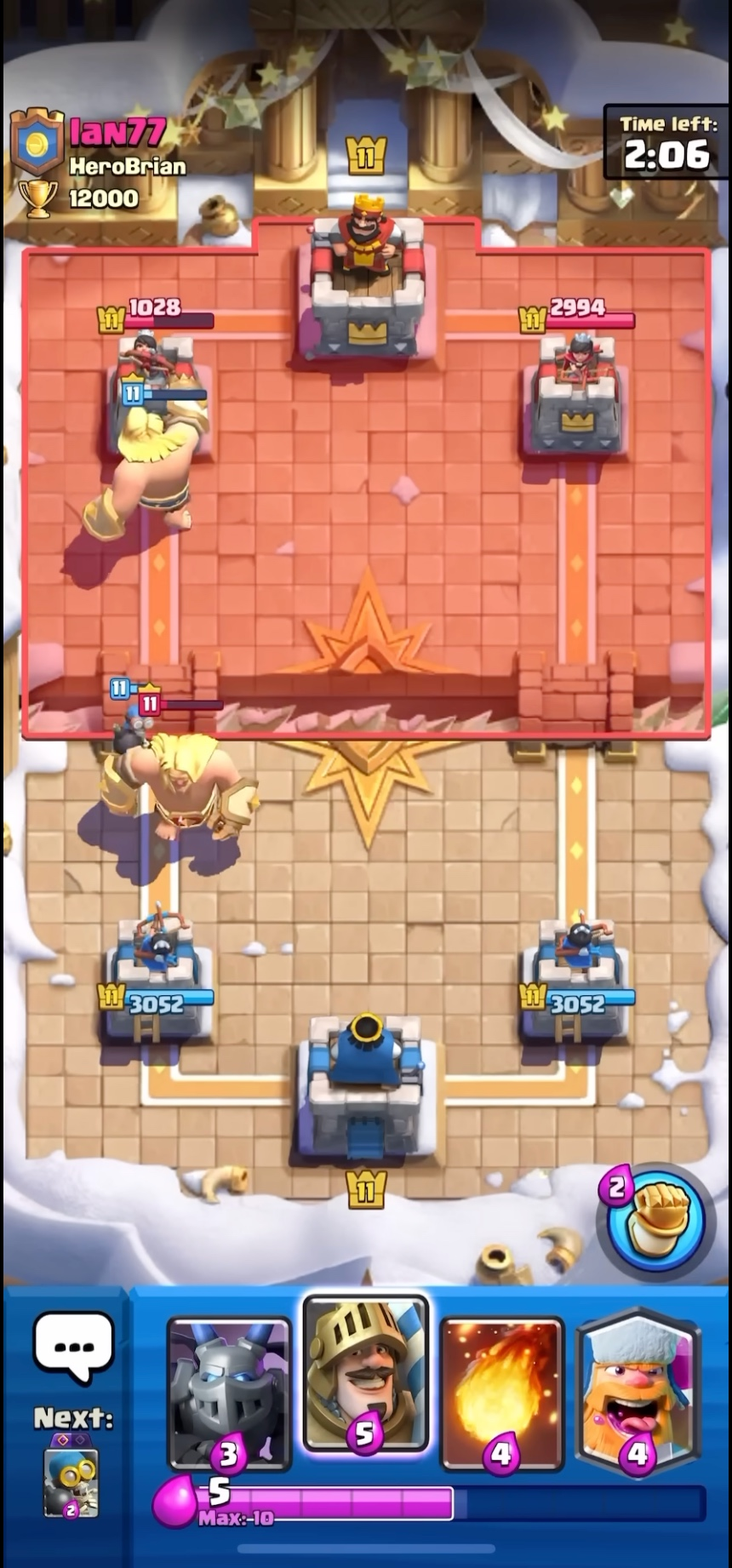hero-giant: (97, 678, 261, 855)
